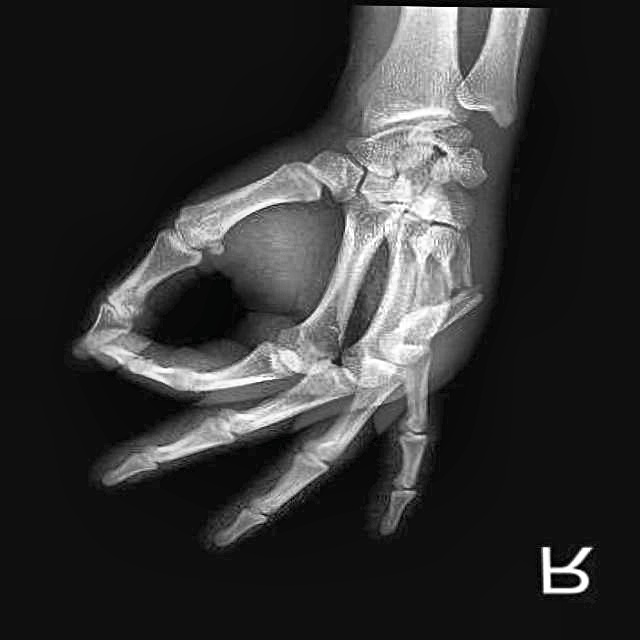Oblique: (389, 226, 486, 361)
